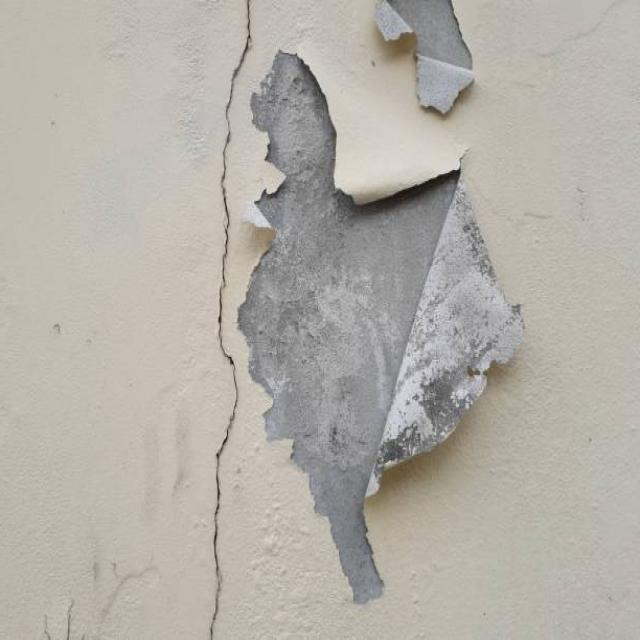crack: (206, 1, 256, 638)
